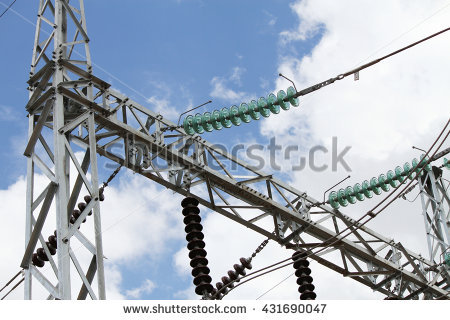isolator: (182, 85, 300, 136), (328, 154, 431, 209), (442, 157, 450, 169), (444, 252, 450, 267)
